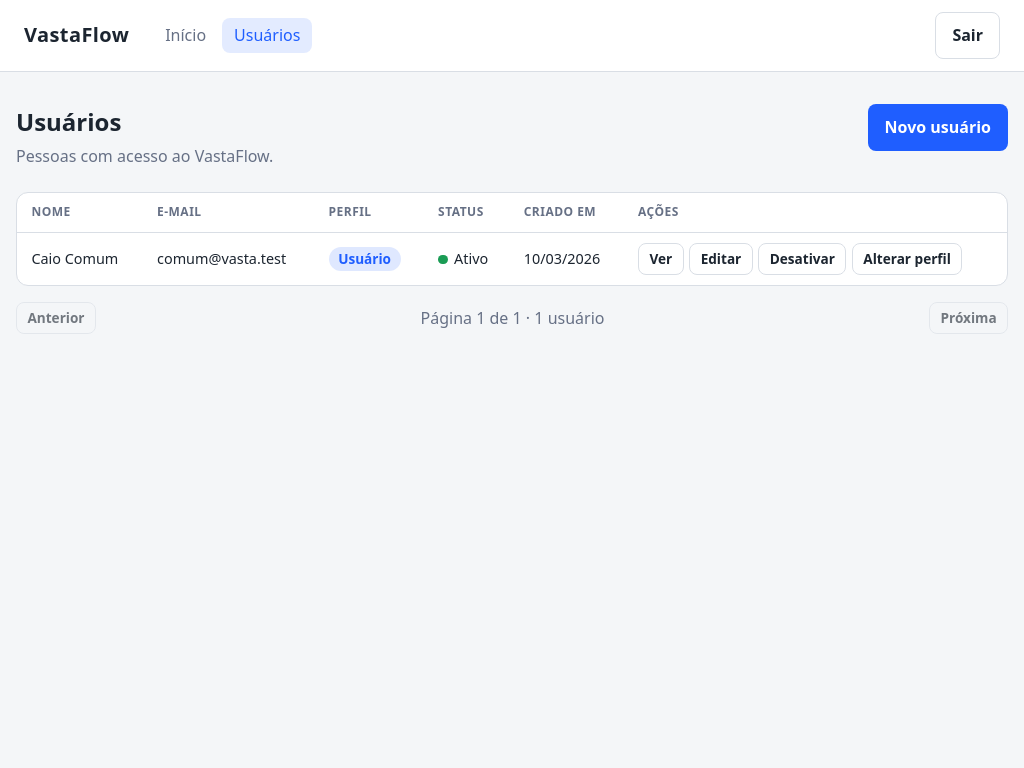
Scenario: ativar/desativar e perfil › altera o perfil escolhendo entre os perfis que o backend permite conceder
The image size is (1024, 768).
Click the button "Alterar perfil": (907, 259) [852,243,962,275]
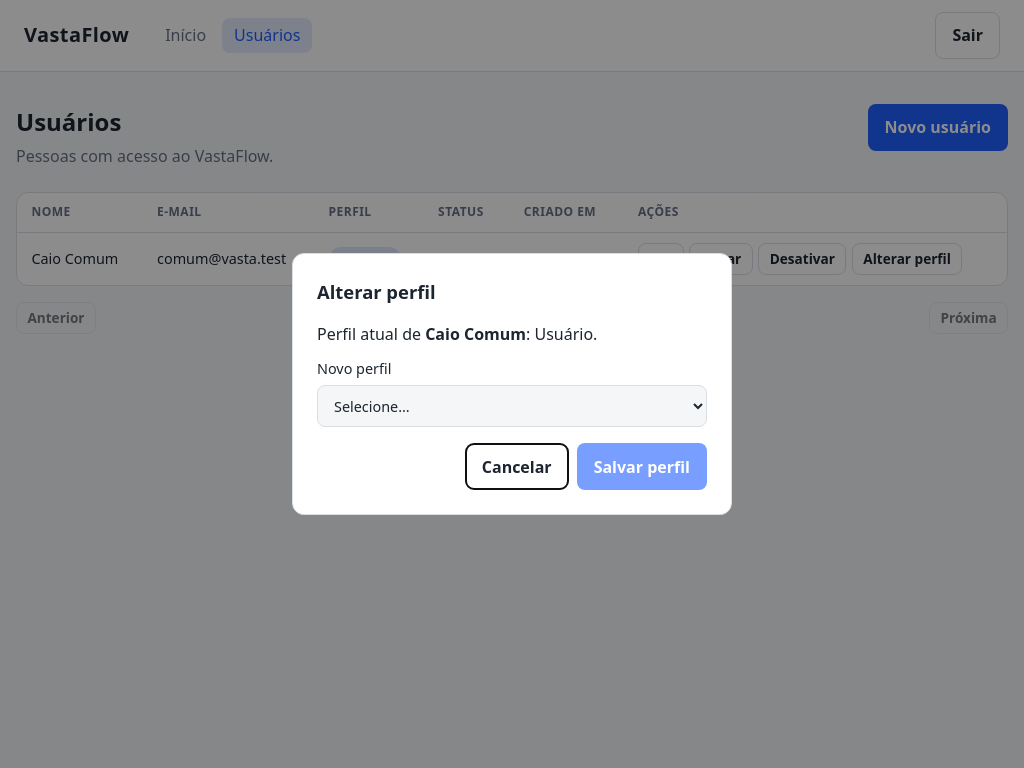
expect the button "Salvar perfil" is disabled: met, box [577,443,707,490]
Select "Operador" in the dropdown labelled "Novo perfil": (512, 406) [317,385,707,427]
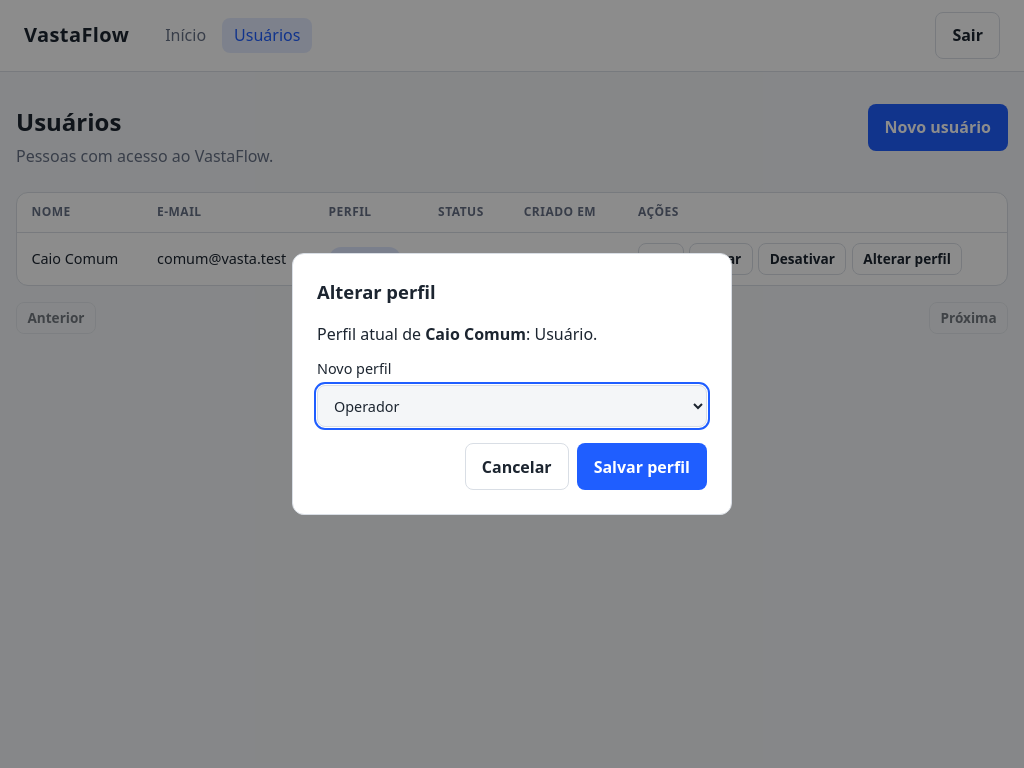
Click the button "Salvar perfil": (642, 466) [577,443,707,490]
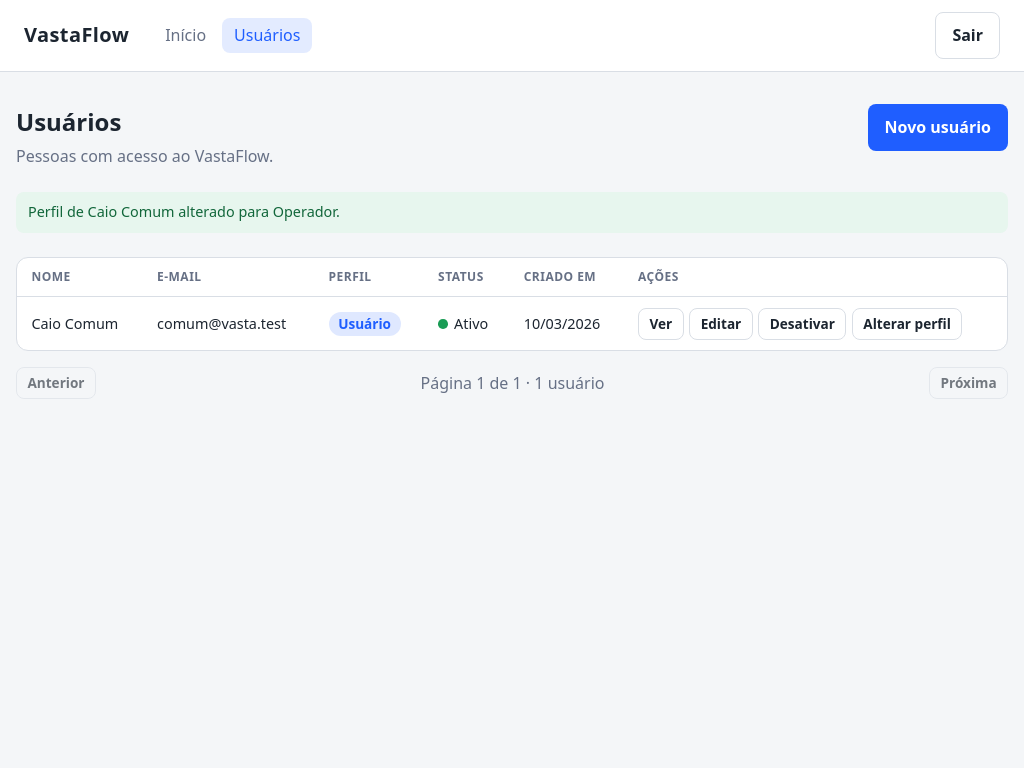
expect the message shows "alterado para Operador": met, box [28,202,340,221]
